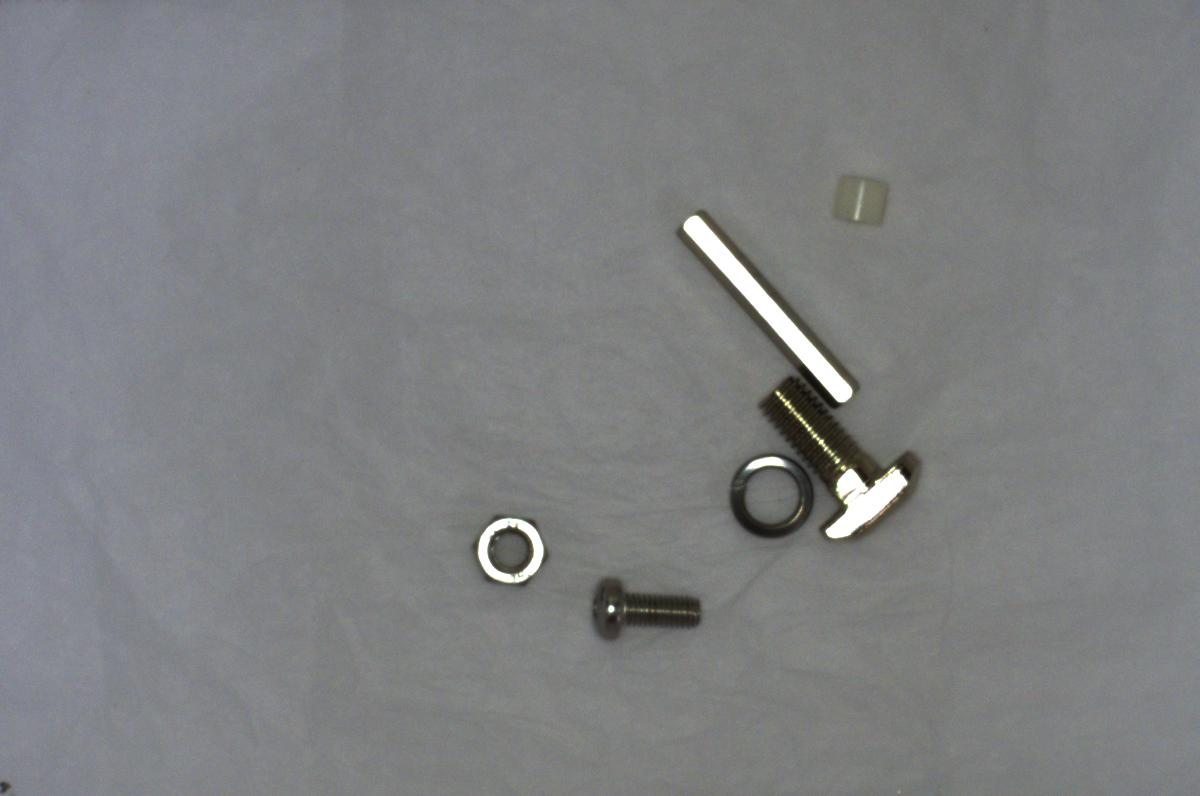Double hexagonal column: (671, 200, 862, 410)
Hexagon nut: (462, 504, 556, 594)
Plastic cushion pillar: (828, 162, 898, 240)
Round head screw: (585, 562, 714, 649)
Spring washer: (721, 444, 819, 544)
T-shaped screw: (747, 371, 932, 545)
